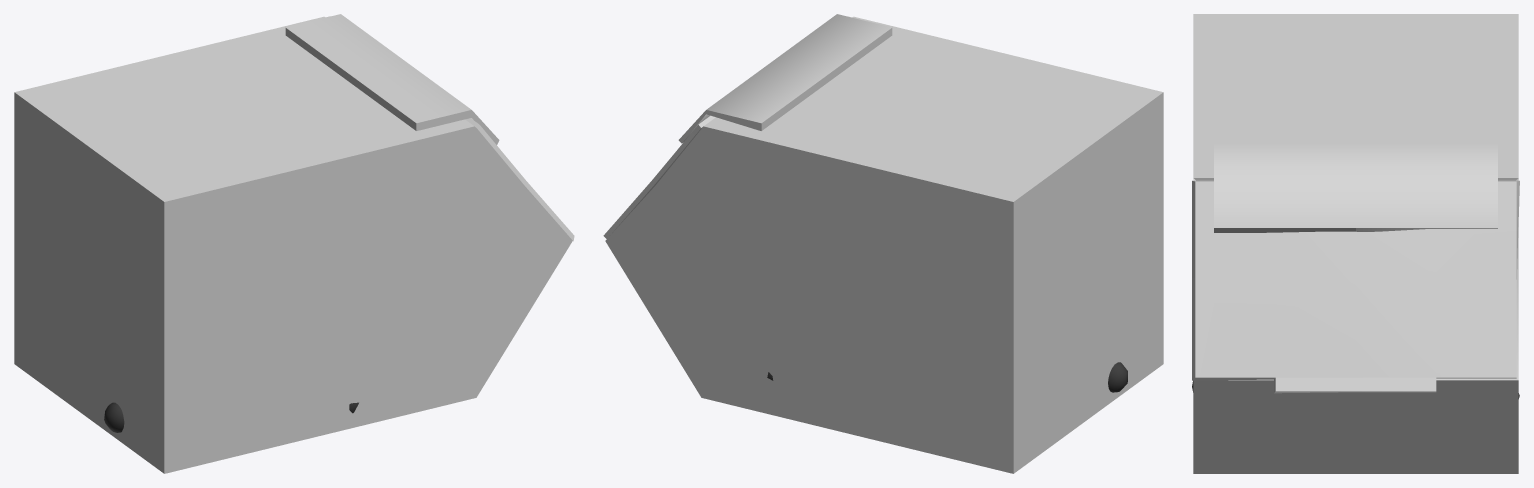
File: Item_GumBallsVar_5.fbx
3 views of the same model, side by side, from view 1: azimuth 30°, elevation 25°; view 2: azimuth 150°, elevation 25°; view 3: azimuth 270°, elevation 25° (orthographic). The views are drawn at different scales.
Visible parts, largest first — view 1: Item_GumBallsVar_5; view 2: Item_GumBallsVar_5; view 3: Item_GumBallsVar_5.
Part boxes in pixels (x1,y1,x2,y2): Item_GumBallsVar_5: (14, 14, 574, 473); Item_GumBallsVar_5: (603, 14, 1163, 473); Item_GumBallsVar_5: (1192, 14, 1519, 473).
Size of the model in its own units: 73.46 by 46.76 by 44.9.
2 materials, 1 textured.
